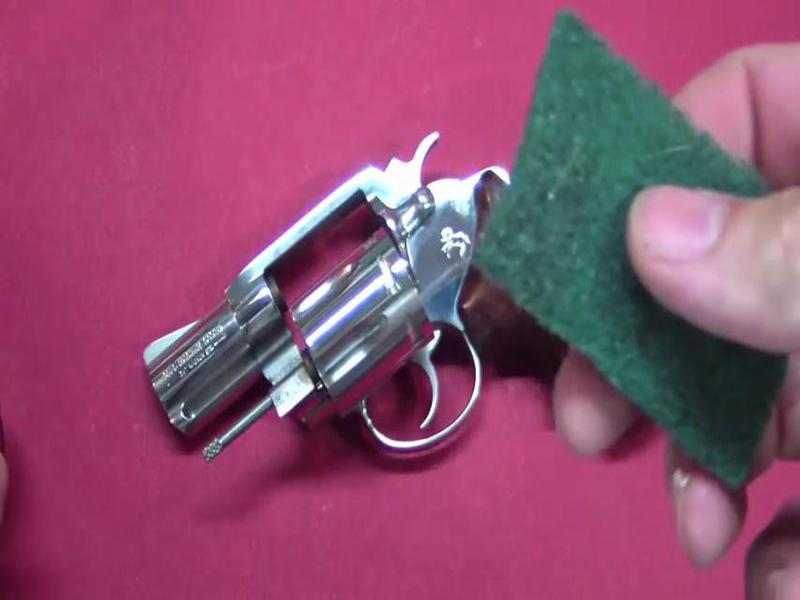Revolver: (129, 129, 599, 470)
